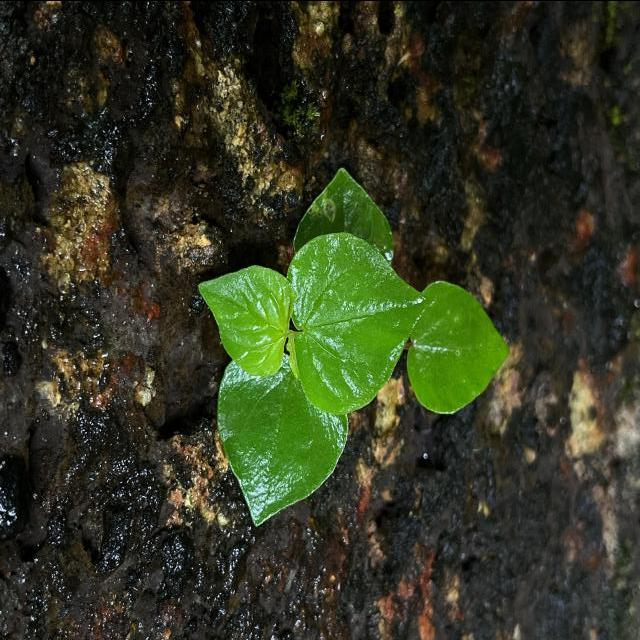Peperomia pellucida: (282, 228, 430, 417), (212, 352, 350, 528), (194, 260, 298, 380)
